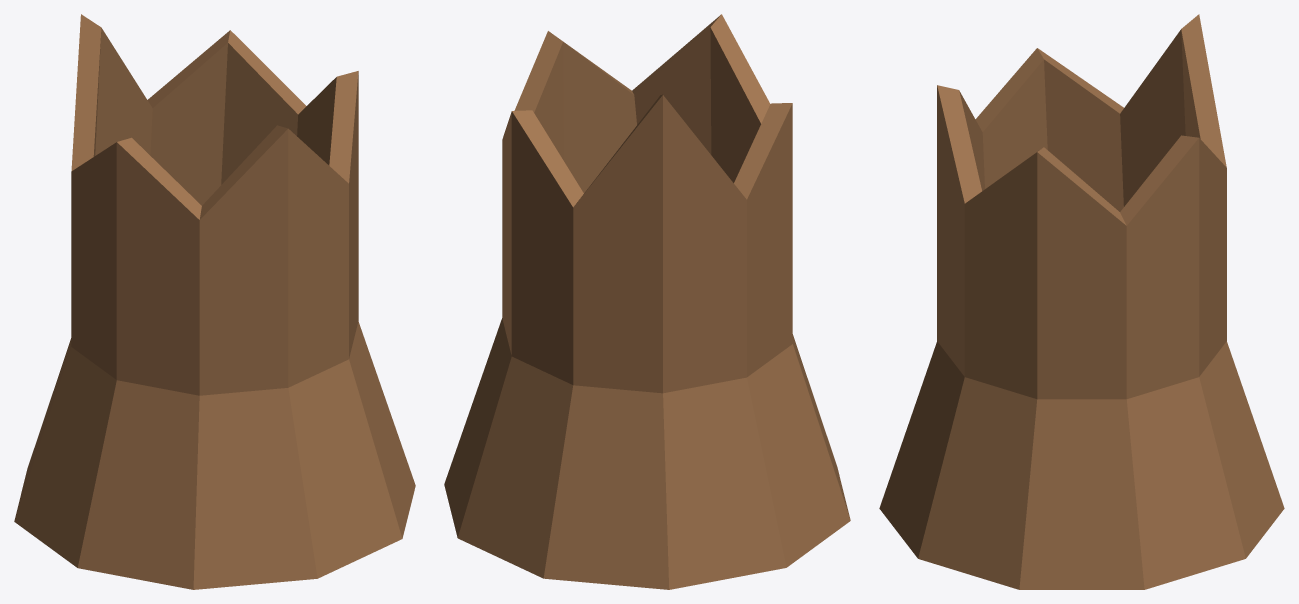
File: Treestumb_2.fbx
3 renders of one model, left to right at view 1: azimuth 30°, elevation 25°; view 2: azimuth 150°, elevation 25°; view 3: azimuth 270°, elevation 25°, orthographic. The views are drawn at different scales.
Parts seen in each view (by area): view 1: Treestumb2_mesh; view 2: Treestumb2_mesh; view 3: Treestumb2_mesh.
Part boxes in pixels (left/top/right/bottom): Treestumb2_mesh: left=14, top=14, right=415, bottom=589; Treestumb2_mesh: left=444, top=14, right=850, bottom=589; Treestumb2_mesh: left=879, top=14, right=1284, bottom=589.
Bounding box in the file's own units: 74.93 × 98.35 × 78.78.
